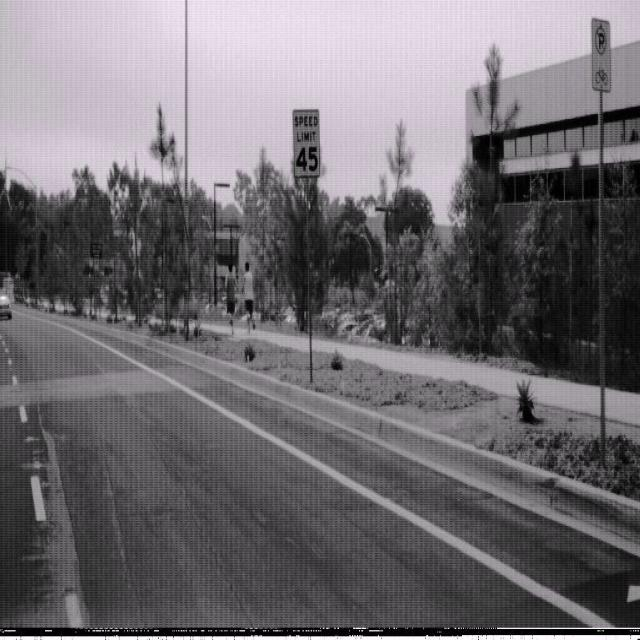speedLimit45: (292, 107, 321, 179)
